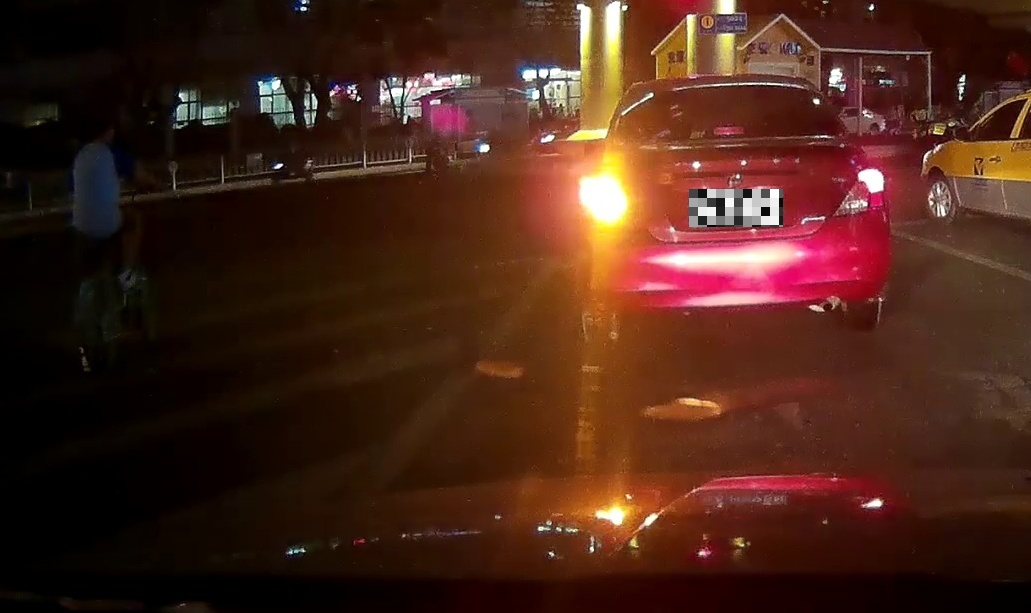L_light: (581, 172, 638, 225)
R_light: (833, 169, 888, 215)
T_light: (711, 124, 749, 136)
night-left: (575, 72, 894, 347)
plate_1: (689, 189, 783, 227)
